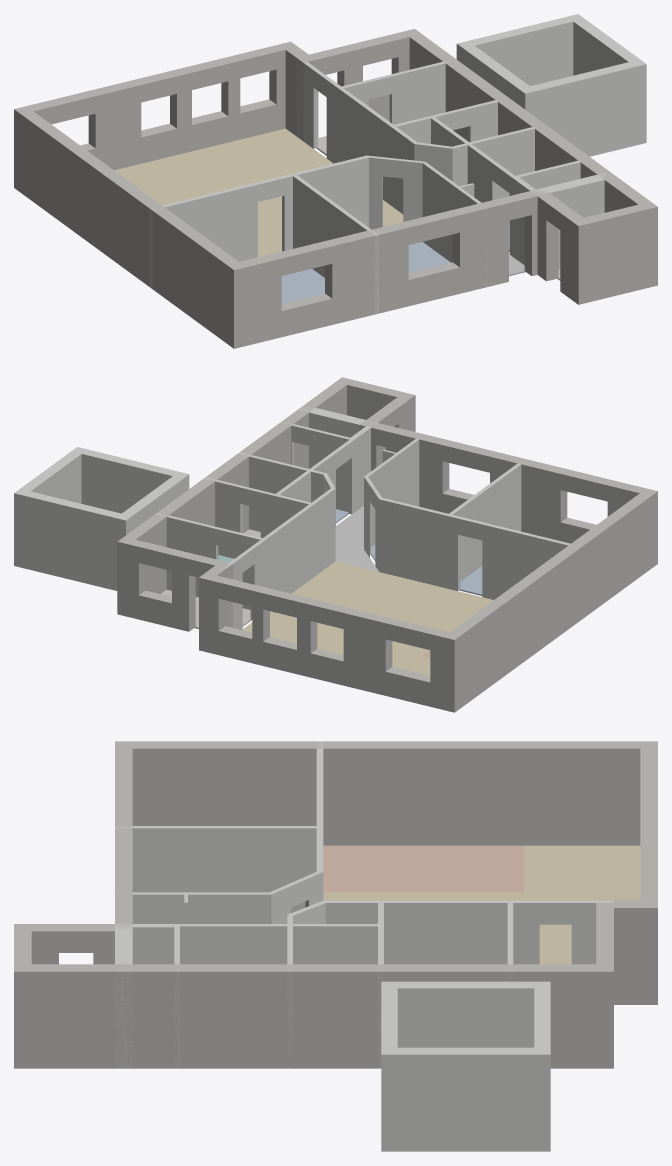
The model's file is PROP_1002.glb.
The picture shows the model from 3 angles, top to bottom: view 1: azimuth 30°, elevation 25°; view 2: azimuth 150°, elevation 25°; view 3: azimuth 270°, elevation 25°; orthographic projection. The views are drawn at different scales.
Parts seen in each view (by area): view 1: L0_wall_F0_W6, L0_wall_F0_W7, L0_wall_F0_W0, L0_floor_F0_R2_0, L0_wall_F0_W11, L0_wall_F0_W23, L0_wall_F0_W3, L0_wall_F0_W14, L0_wall_F0_W4, L0_wall_F0_W21, L0_wall_F0_W17, L0_wall_F0_W5 (+16 smaller); view 2: L0_wall_F0_W0, L0_wall_F0_W7, L0_wall_F0_W6, L0_wall_F0_W11, L0_floor_F0_R2_0, L0_wall_F0_W21, L0_wall_F0_W3, L0_wall_F0_W14, L0_wall_F0_W2, L0_wall_F0_W23, L0_wall_F0_W25, L0_wall_F0_W18 (+14 smaller); view 3: L0_wall_F0_W7, L0_wall_F0_W3, L0_wall_F0_W22, L0_wall_F0_W14, L0_wall_F0_W25, L0_floor_F0_R2_0, L0_floor_F0_R3_0, L0_wall_F0_W20, L0_wall_F0_W19, L0_wall_F0_W9, L0_wall_F0_W1, L0_wall_F0_W6 (+11 smaller).
Part boxes in pixels (x1,y1,x2,y2): L0_wall_F0_W6: (234,189,541,348); L0_wall_F0_W7: (14,109,238,348); L0_wall_F0_W0: (14,41,290,170); L0_floor_F0_R2_0: (114,128,403,257); L0_wall_F0_W11: (149,155,368,288); L0_wall_F0_W23: (525,62,646,156); L0_wall_F0_W3: (409,29,657,212); L0_wall_F0_W14: (296,58,416,214); L0_wall_F0_W4: (578,204,657,304); L0_wall_F0_W21: (457,14,577,85); L0_wall_F0_W17: (338,59,455,161); L0_wall_F0_W5: (537,189,583,304); L0_wall_F0_W0: (199,575,454,712); L0_wall_F0_W7: (450,491,657,712); L0_wall_F0_W6: (359,423,657,543); L0_wall_F0_W11: (379,497,578,599); L0_floor_F0_R2_0: (242,561,493,675); L0_wall_F0_W21: (14,491,125,590); L0_wall_F0_W3: (118,377,346,593); L0_wall_F0_W14: (224,488,335,629); L0_wall_F0_W2: (117,539,232,631); L0_wall_F0_W23: (77,447,188,513); L0_wall_F0_W25: (446,463,521,589); L0_wall_F0_W18: (204,477,315,577); L0_wall_F0_W7: (116,741,656,845); L0_wall_F0_W3: (14,964,613,1068); L0_wall_F0_W22: (381,1047,550,1151); L0_wall_F0_W14: (324,900,613,964); L0_wall_F0_W25: (115,826,316,912); L0_floor_F0_R2_0: (323,845,640,964); L0_floor_F0_R3_0: (323,845,524,891); L0_wall_F0_W20: (382,981,549,1047); L0_wall_F0_W19: (174,924,382,964); L0_wall_F0_W9: (125,892,271,964); L0_wall_F0_W1: (603,900,657,1004); L0_wall_F0_W6: (115,741,132,929).
Bounding box in the file's own units: 18.69 × 2.75 × 16.23.
